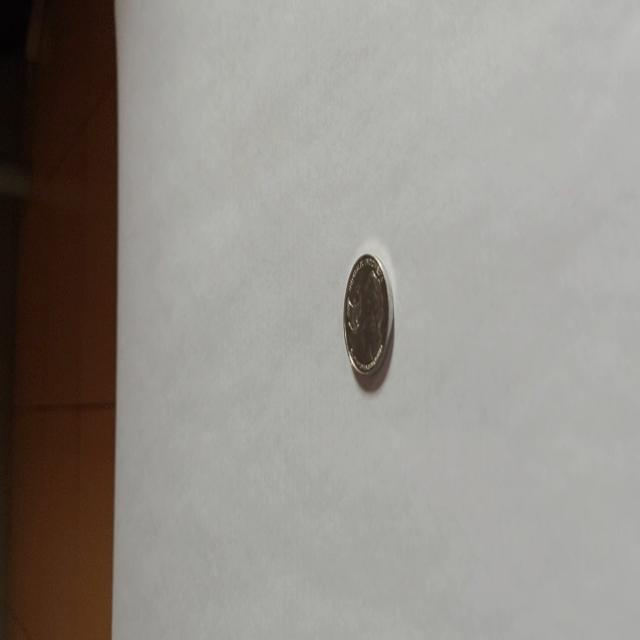dua ratus rupiah: (342, 252, 394, 378)
